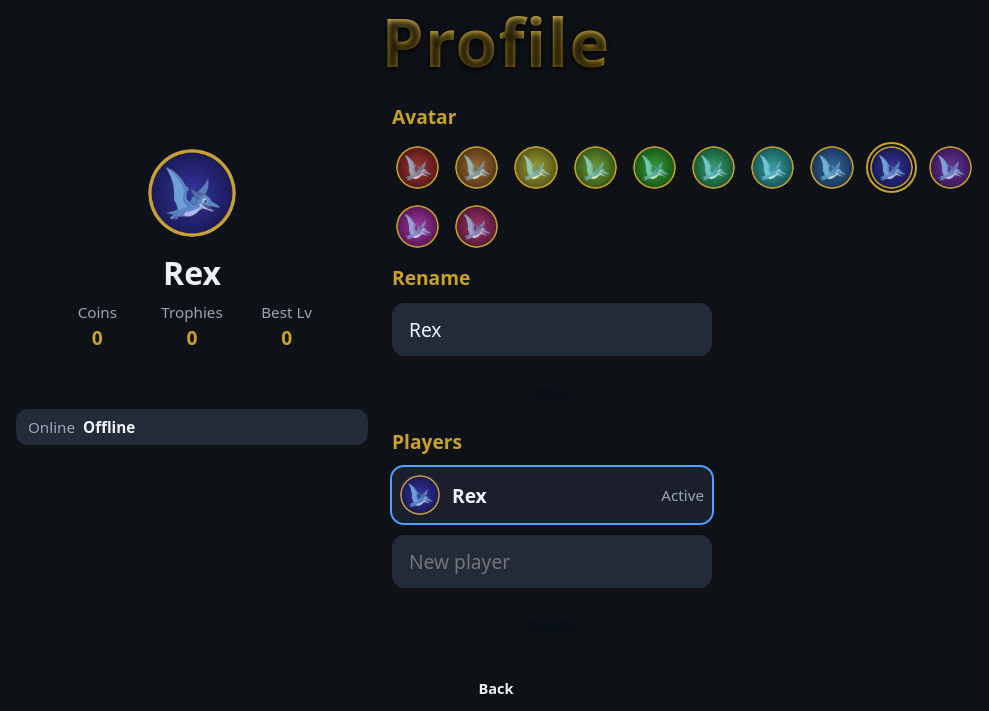
ProfileScreen › renomear atualiza o nome do ativo
Step 1. Replace the text in the field with test id "rename-input" with "RexII" → (552, 330), box [392, 303, 712, 356]
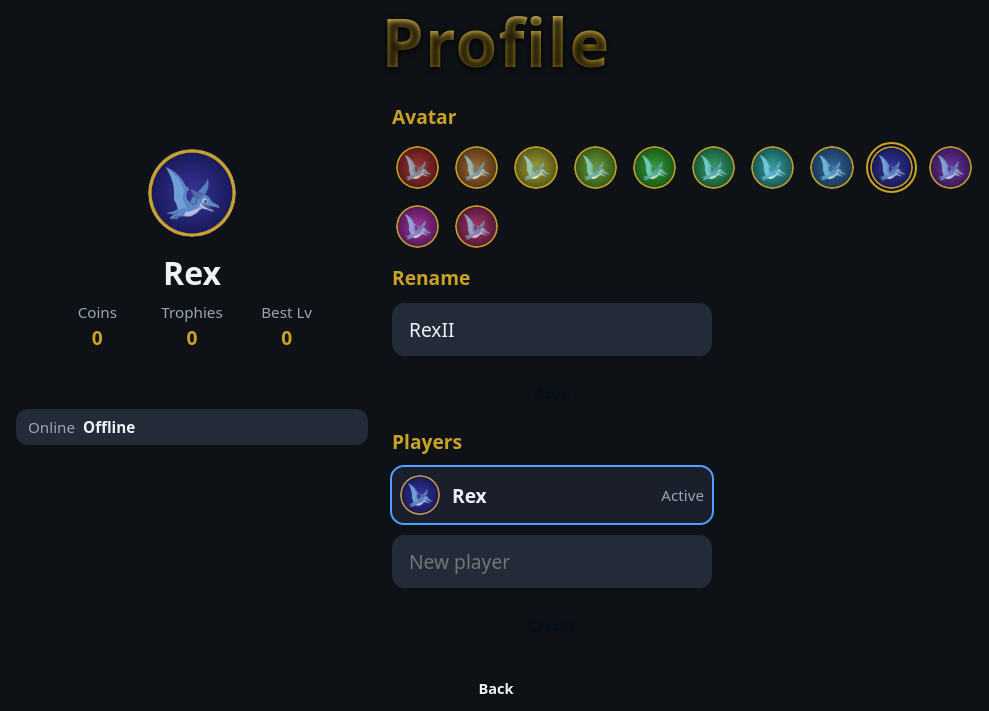
Step 2. Submit the form with test id "rename-form", box [392, 303, 712, 416]
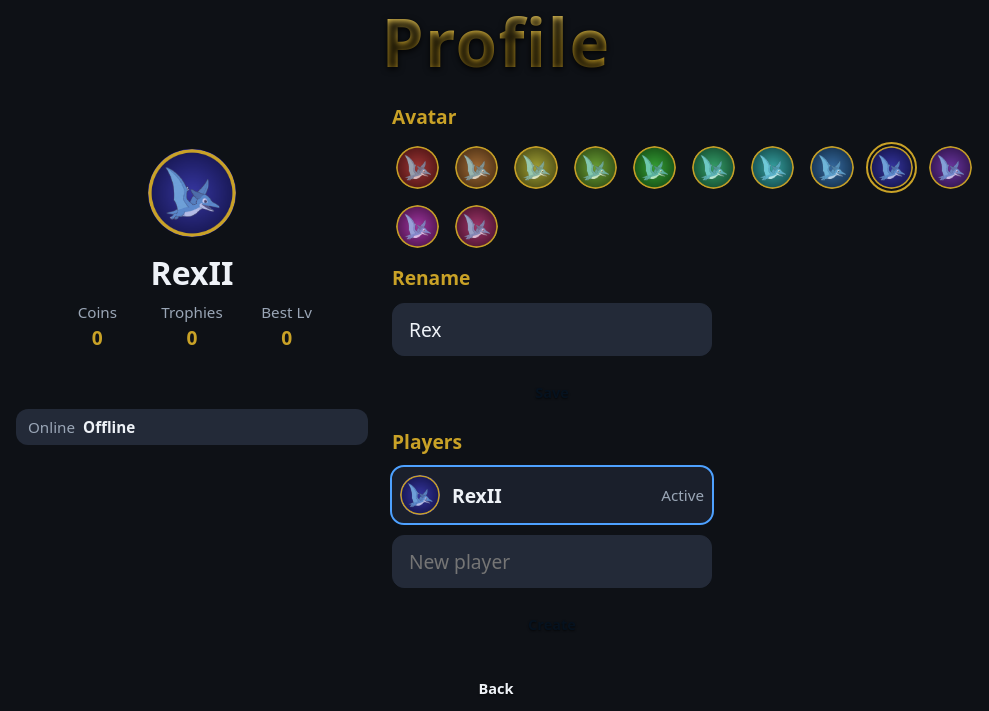
Expected: the 1st text "RexII" is shown, [151, 251, 233, 294]
